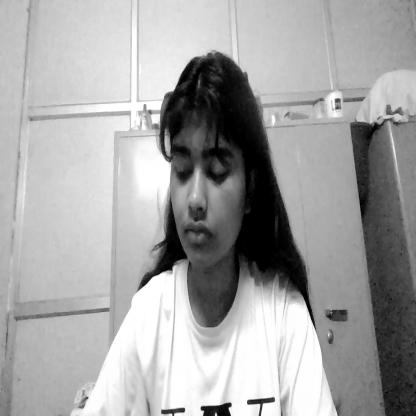Normal: (164, 55, 261, 280)
